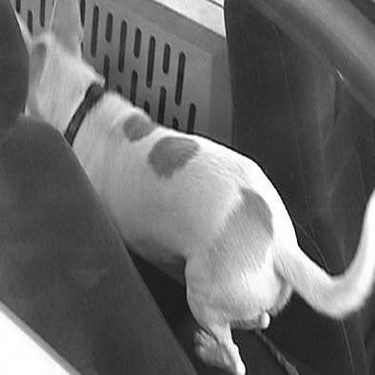dog: (12, 3, 370, 372)
